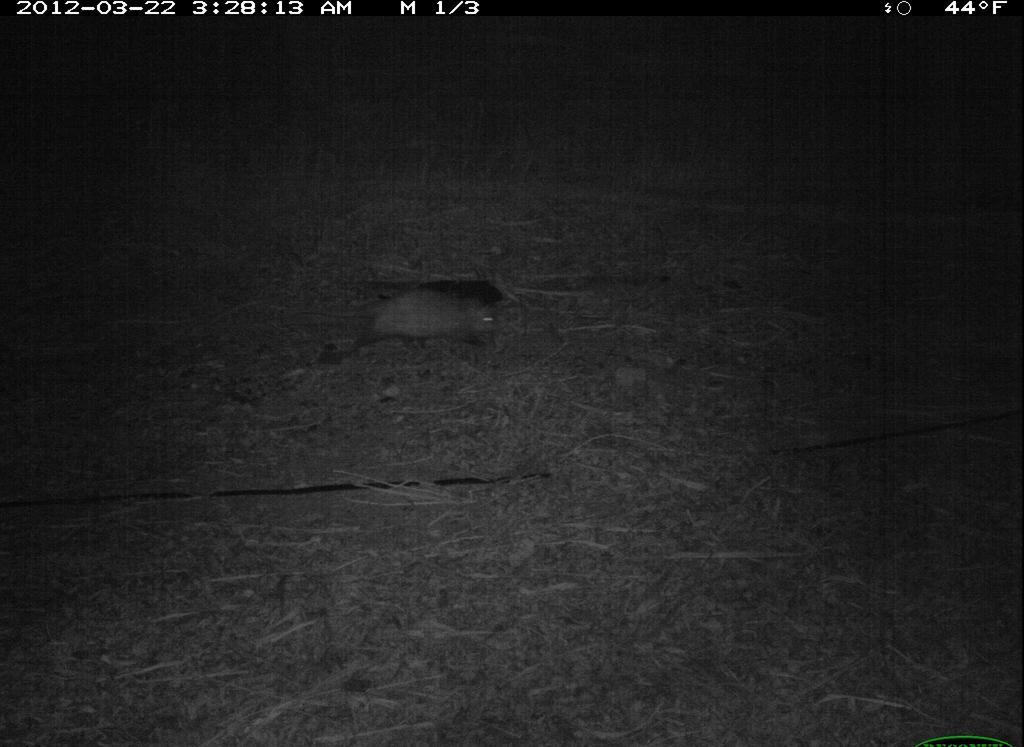opossum: (295, 280, 519, 367)
